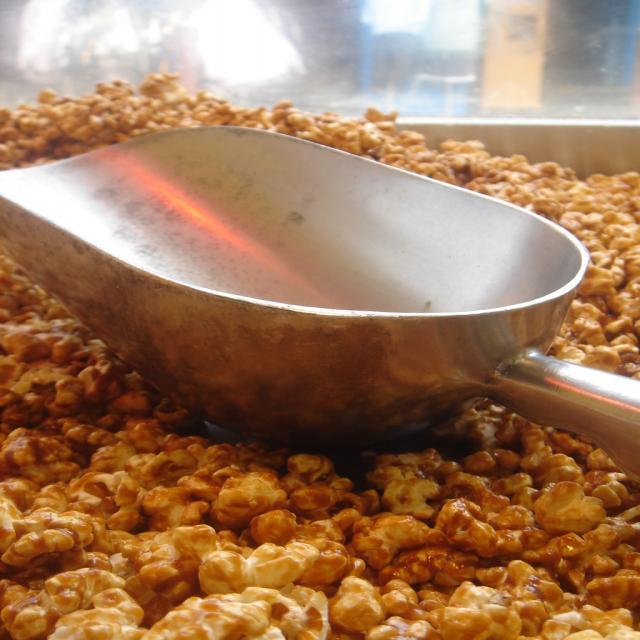Popcorn: (0, 67, 638, 639), (0, 73, 639, 639)
